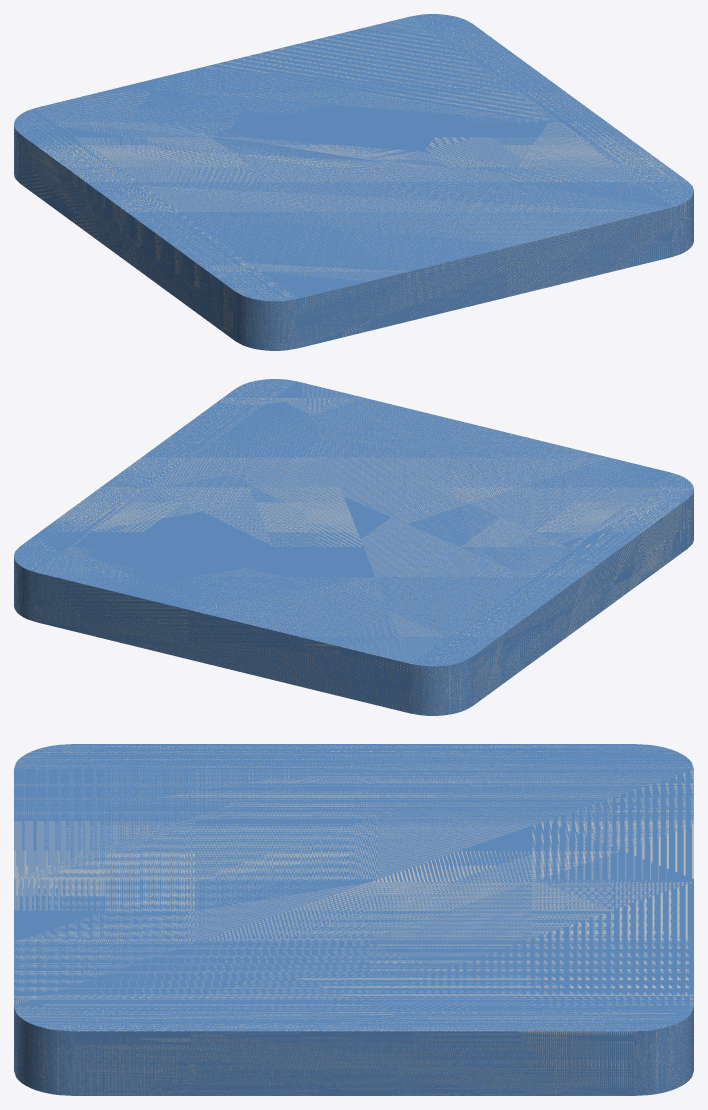
The model's file is original-23.obj.
3 views of the same model, one above another, from view 1: azimuth 30°, elevation 25°; view 2: azimuth 150°, elevation 25°; view 3: azimuth 270°, elevation 25° (orthographic). The views are drawn at different scales.
Parts seen in each view (by area): view 1: mesh22/mesh22-geometry#mesh22-geometry; view 2: mesh22/mesh22-geometry#mesh22-geometry; view 3: mesh22/mesh22-geometry#mesh22-geometry.
Boxes of the visible parts, x1,y1,x2,y2 form: mesh22/mesh22-geometry#mesh22-geometry: [14, 14, 693, 350]; mesh22/mesh22-geometry#mesh22-geometry: [14, 379, 693, 715]; mesh22/mesh22-geometry#mesh22-geometry: [14, 744, 693, 1095].
Size of the model in its own units: 0.1057 by 0.0111 by 0.1057.
